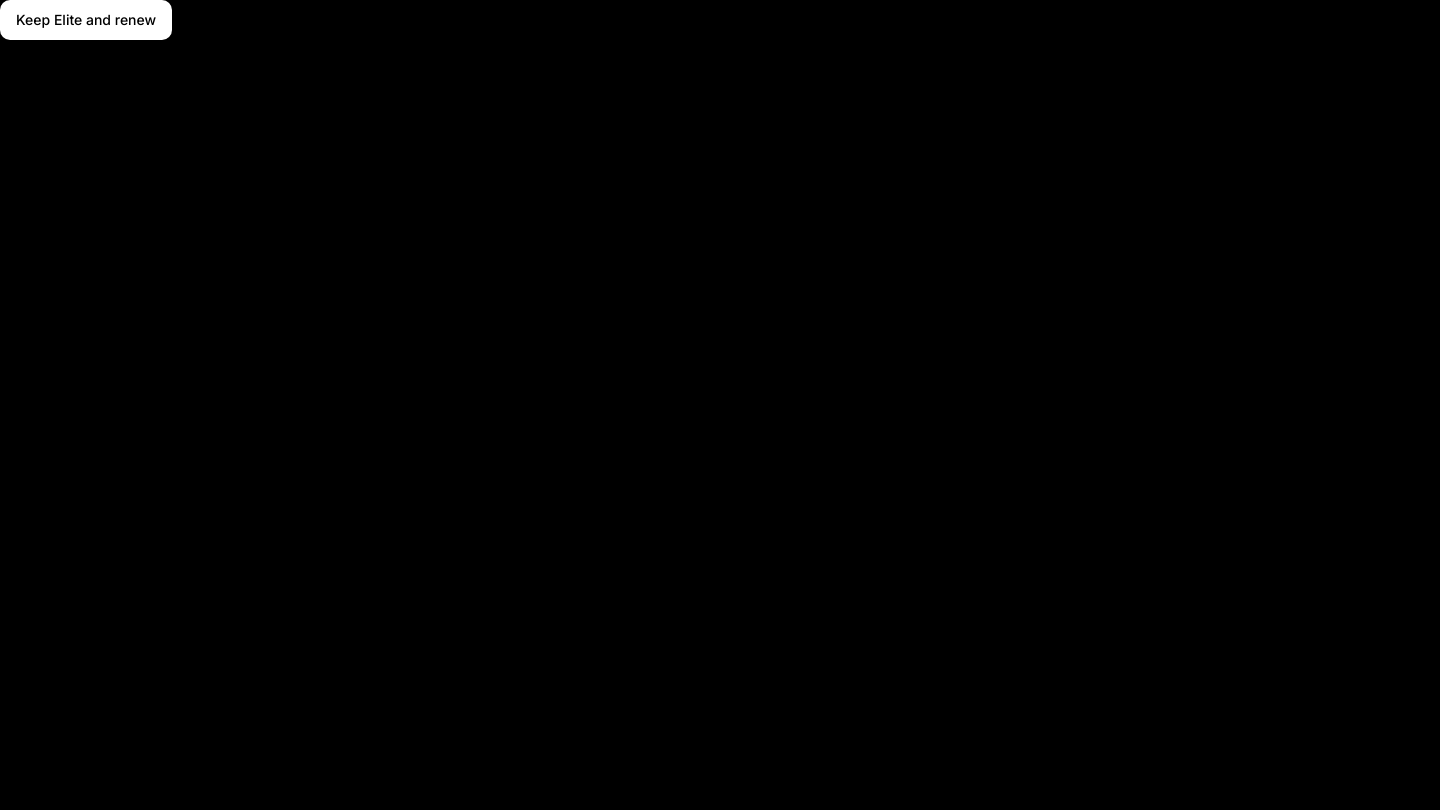
Test: RenewEliteDialog › preserves pending state and exposes Retry for failed or ambiguous restore
Click the button "Keep Elite and renew".
click(86, 20)  # box 0,0 -> 172,40
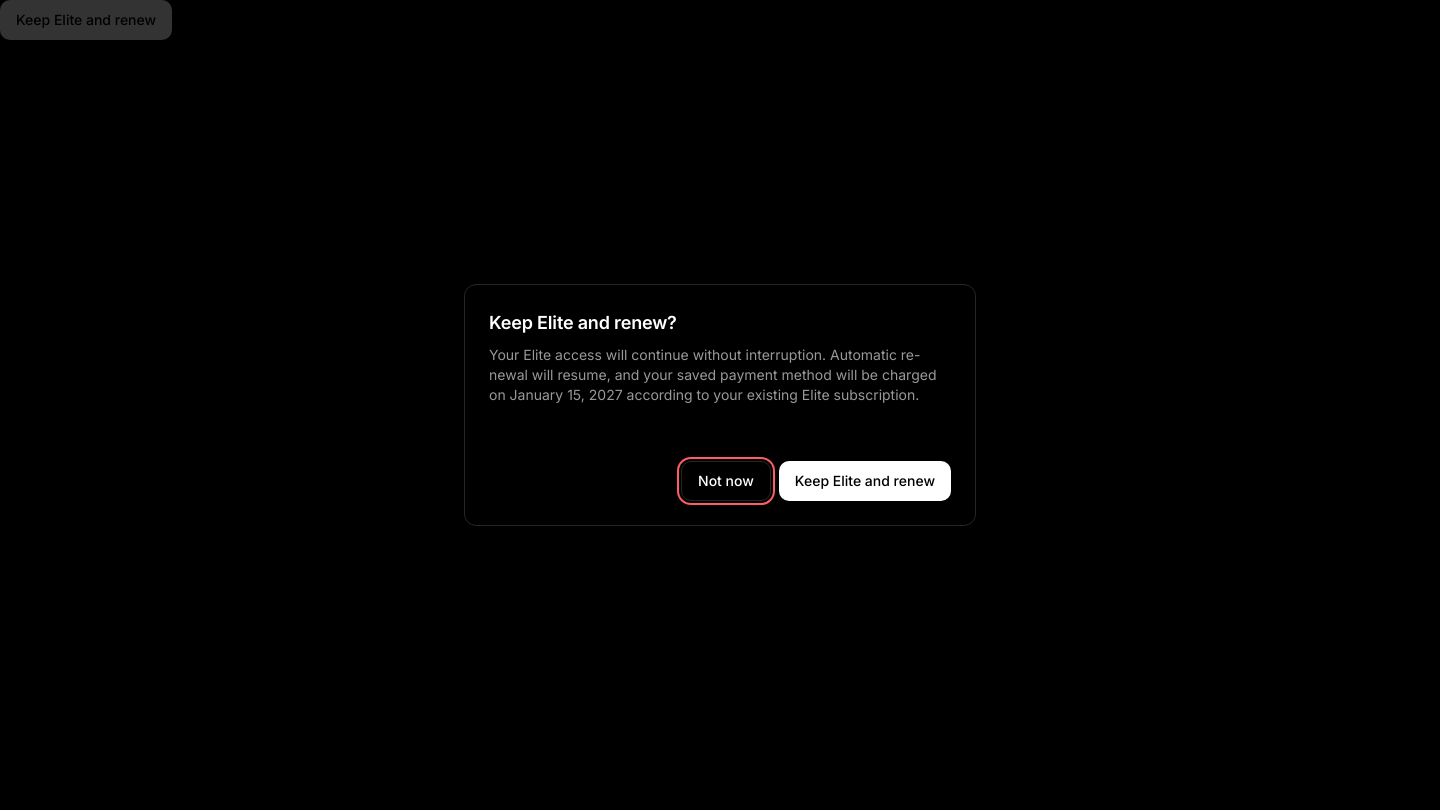
Click the button "Keep Elite and renew".
click(865, 481)  # box 779,461 -> 951,501
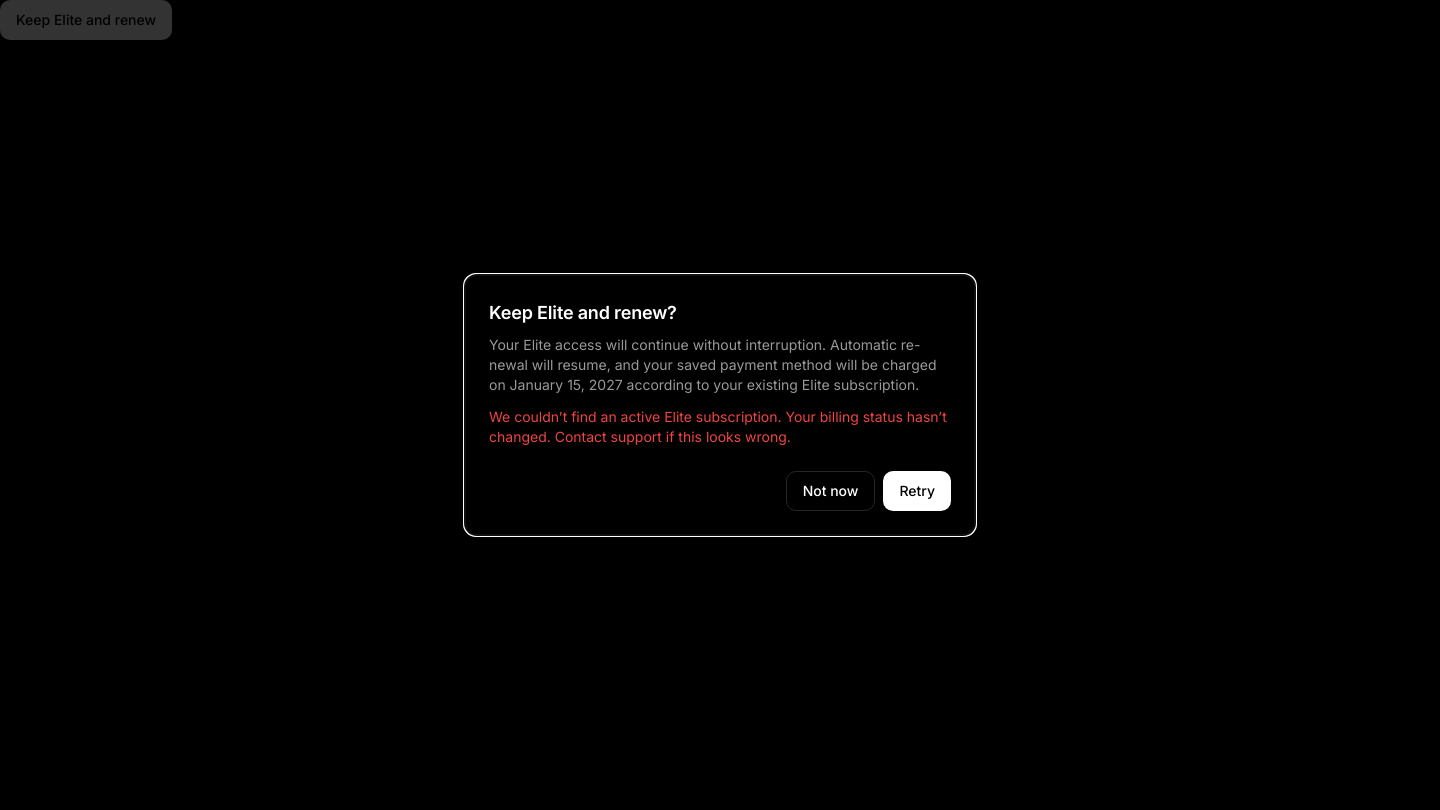
Now the button "Retry" is enabled, box 883,471 -> 951,511
Now the text "We couldn’t find an active Elite subscription. Your billing status hasn’t changed. Contact support if this looks wrong." is shown, box 489,408 -> 947,445
